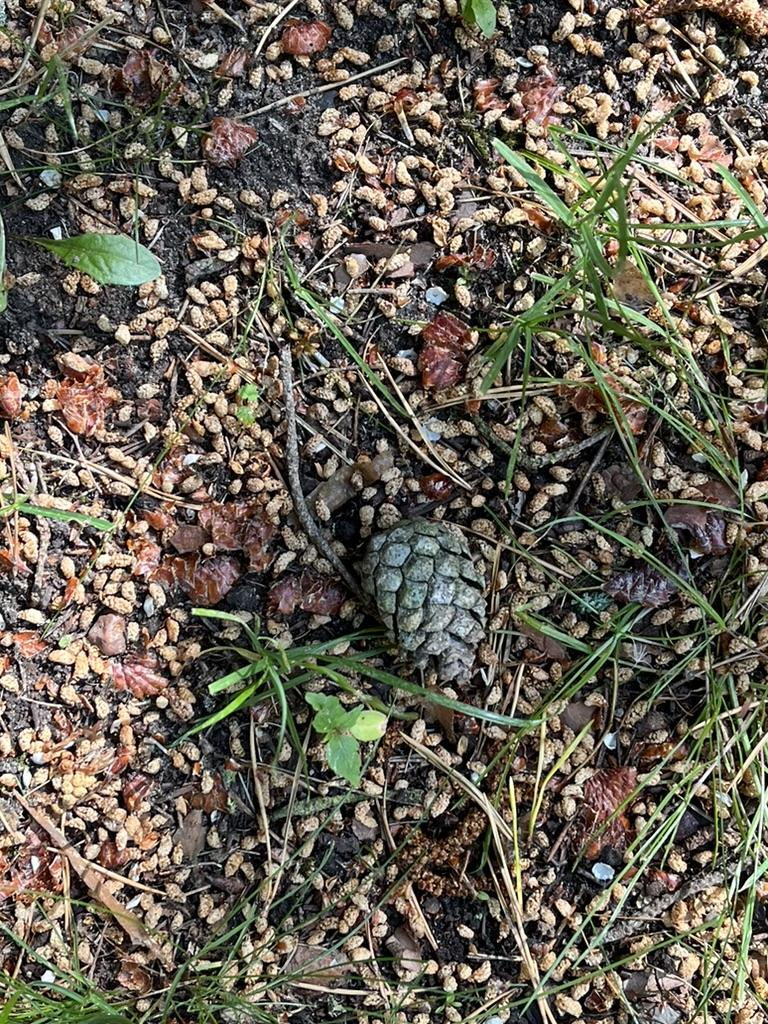pine: (354, 500, 514, 700)
